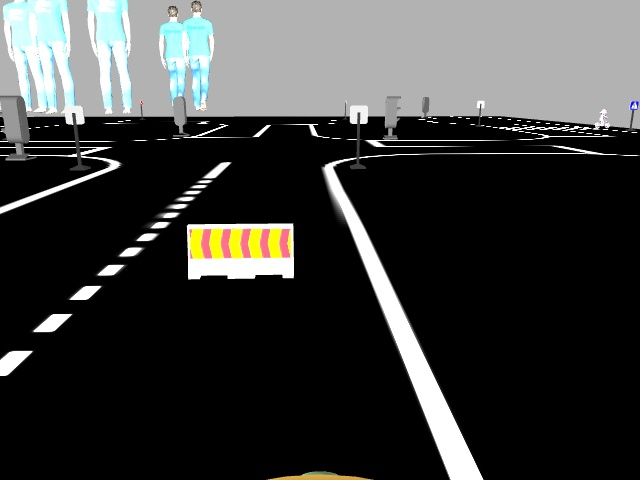ClosedRoadStand: (186, 223, 293, 276)
